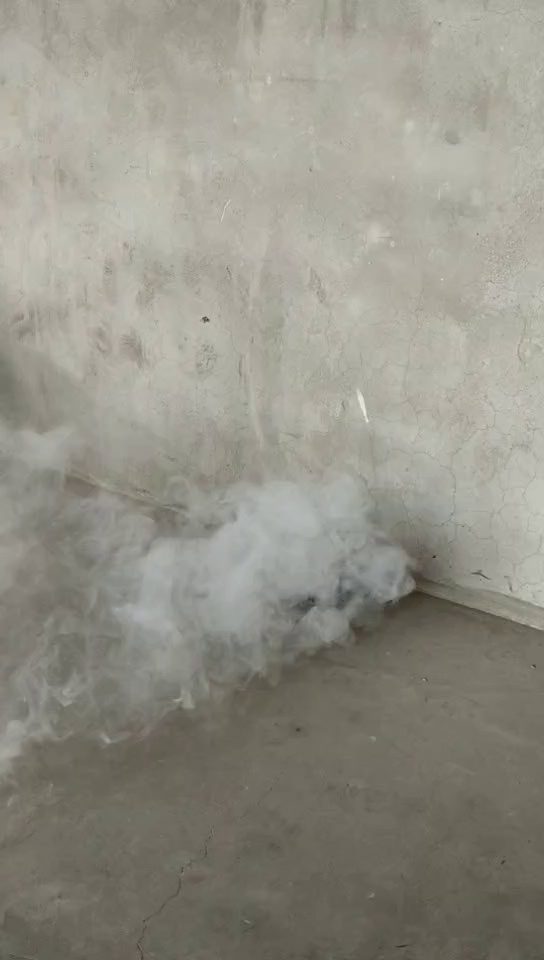smoke: (37, 452, 408, 722)
